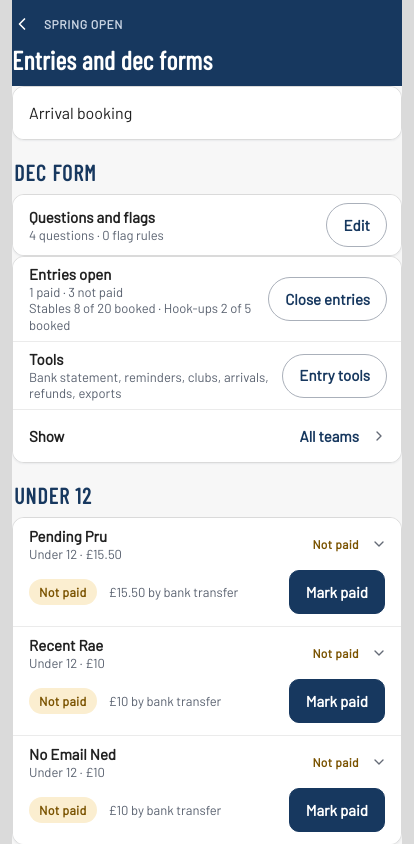
Test: EntriesPage filters and capacity › shows counts on each filter and the stable and hook-up totals
The image size is (414, 844).
Click the button with aria-label "Show: All teams" at (47, 436), box [13,410,401,462]
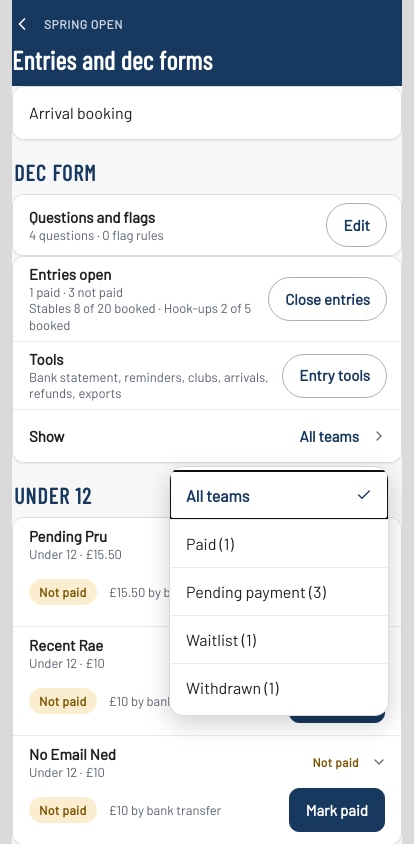
Expected: the text "Stables 8 of 20 booked · Hook-ups 2 of 5 booked" is shown, [29,300,256,333]
Now the options read "All teams", "Paid (1)", "Pending payment (3)", "Waitlist (1)", "Withdrawn (1)", in this order, box [170,471,388,519]; [170,519,388,567]; [170,567,388,615]; [170,615,388,663]; [170,663,388,711]
